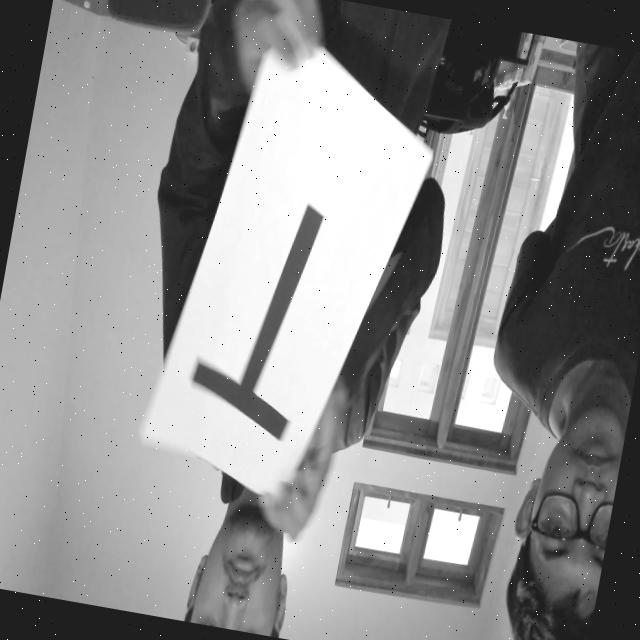t: (150, 158, 370, 483)
